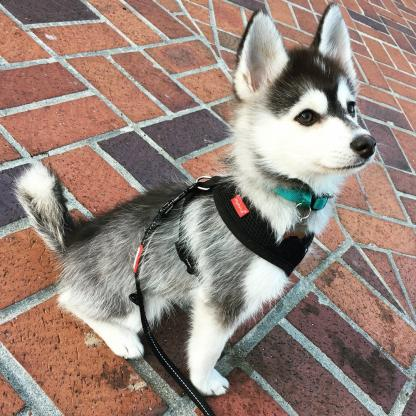husky: (13, 7, 377, 398)
